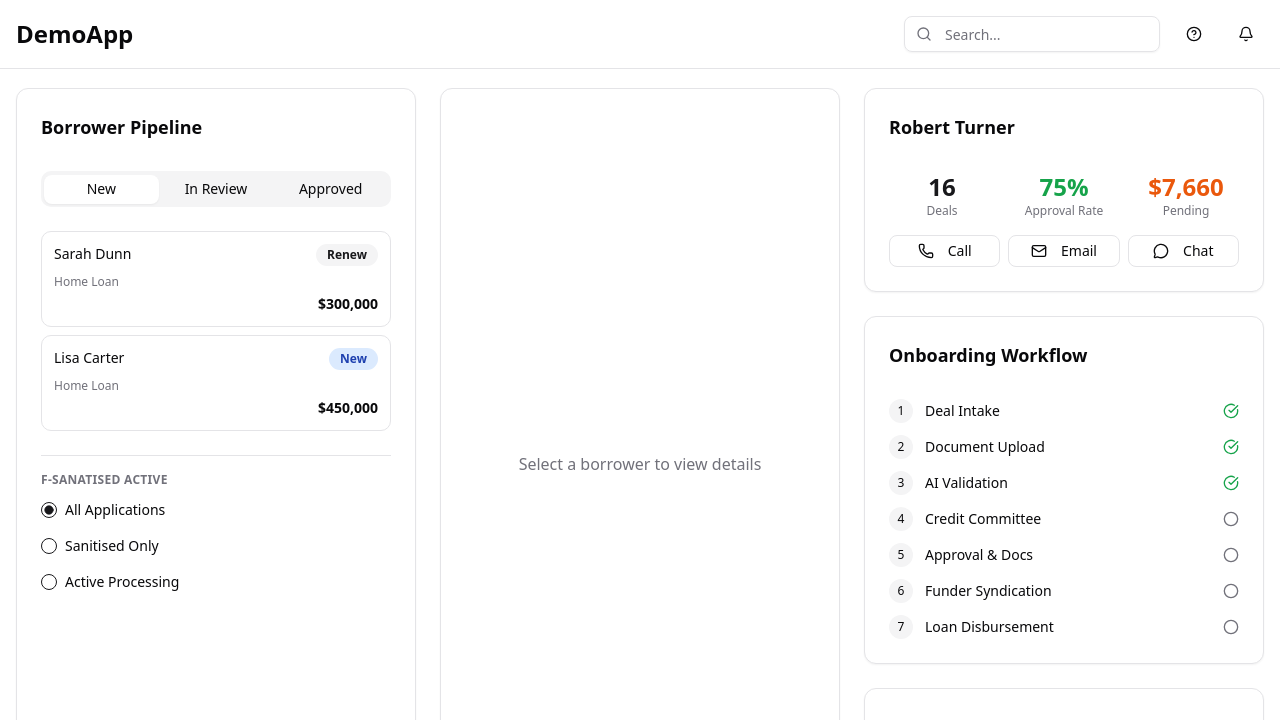
Scenario: Loan Dashboard › should update borrower details when clicking on a borrower
Click the element with test id "borrower-card" that starts with "Sarah Dunn" at (216, 279), box x1=41 y1=231 x2=391 y2=327
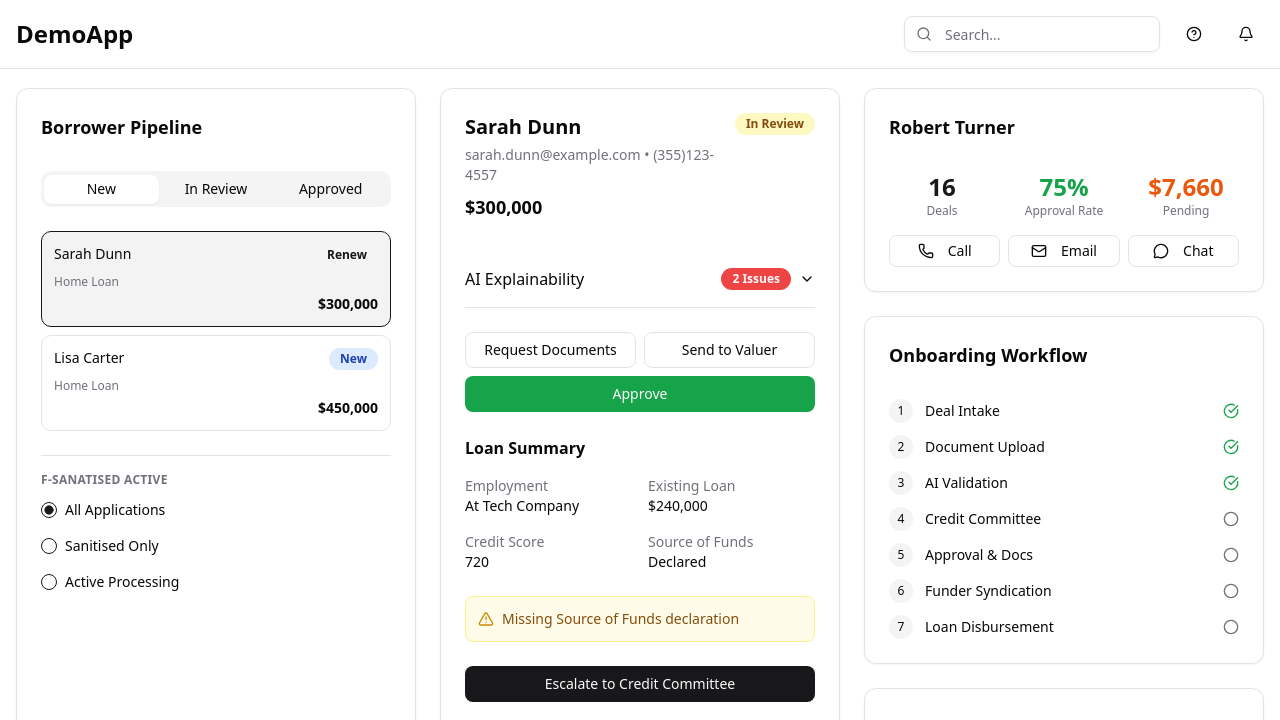
Check: the element with test id "borrower-detail" is shown, box x1=440 y1=88 x2=840 y2=719
Check: the text with test id "borrower-detail" no longer shows "Select a borrower to view details"
